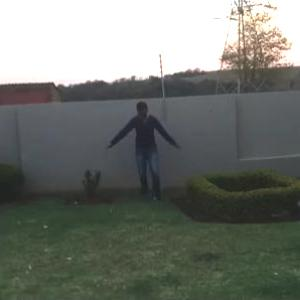land: (106, 98, 184, 207)
